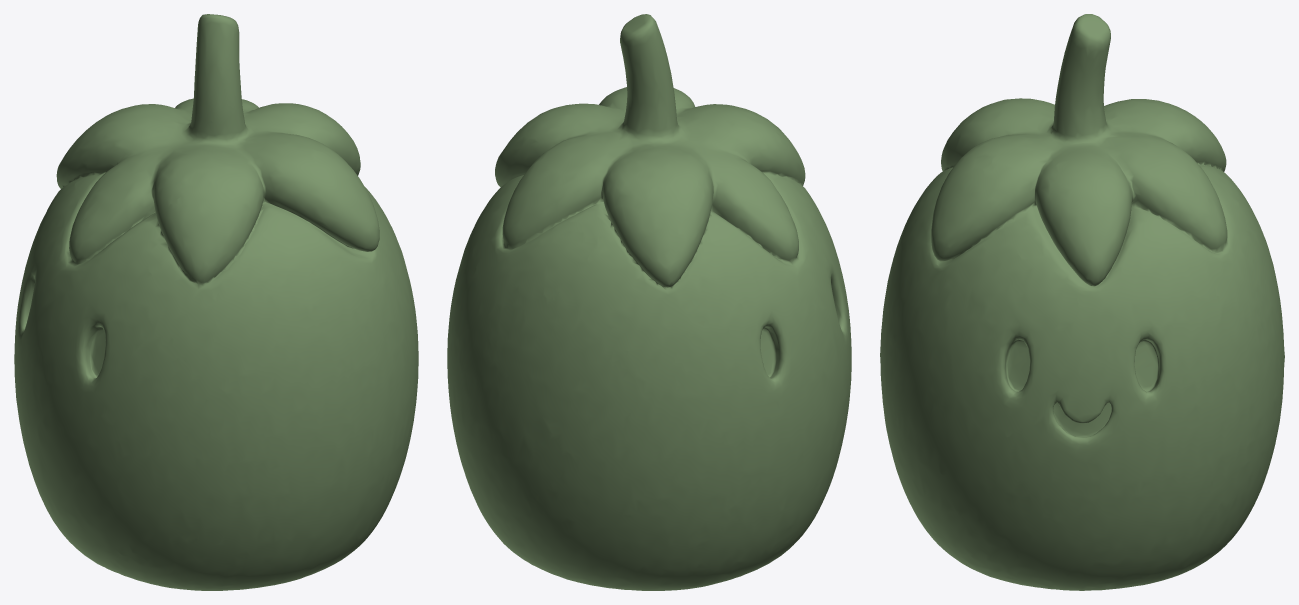
Rendered from tomato-pal.glb.
3 renders of one model, left to right at view 1: azimuth 30°, elevation 25°; view 2: azimuth 150°, elevation 25°; view 3: azimuth 270°, elevation 25°, orthographic.
Parts seen in each view (by area): view 1: tripo_printable_source; view 2: tripo_printable_source; view 3: tripo_printable_source.
Boxes of the visible parts, x1,y1,x2,y2 form: tripo_printable_source: [14, 14, 418, 590]; tripo_printable_source: [447, 14, 851, 590]; tripo_printable_source: [880, 14, 1284, 590].
Bounding box in the file's own units: 69.79 × 100 × 70.
